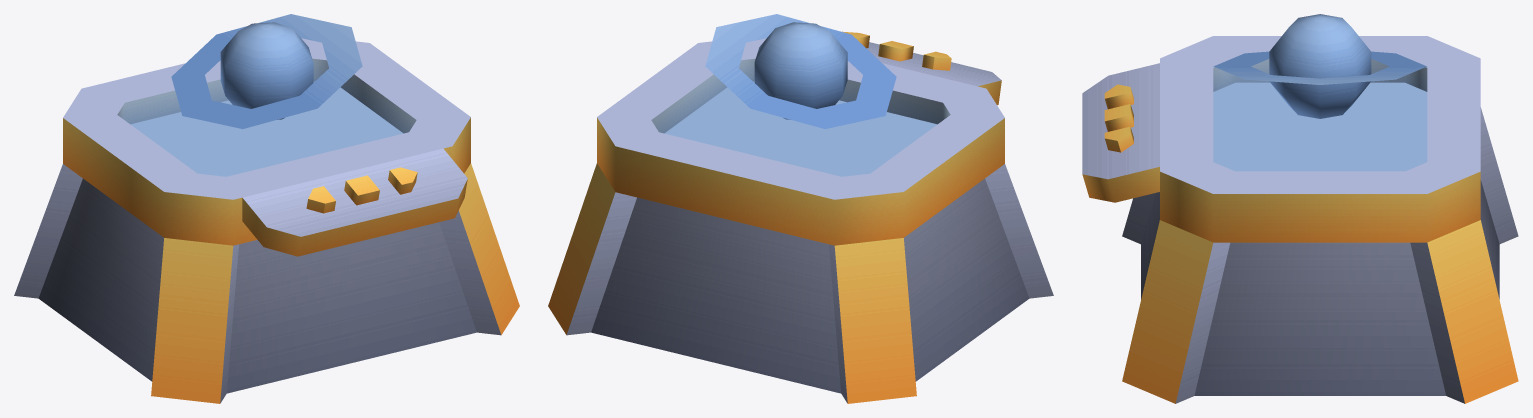
File: table-display-small.glb
The picture shows the model from 3 angles, left to right: view 1: azimuth 30°, elevation 25°; view 2: azimuth 150°, elevation 25°; view 3: azimuth 270°, elevation 25°; orthographic projection. The views are drawn at different scales.
Parts seen in each view (by area): view 1: table-display-small, planet-ring, planet; view 2: table-display-small, planet-ring, planet; view 3: table-display-small, planet, planet-ring.
Boxes of the visible parts, box(x1,y1,x2,y2) form: table-display-small: box(14, 38, 519, 403); planet-ring: box(171, 14, 362, 128); planet: box(220, 22, 313, 119); table-display-small: box(548, 31, 1053, 403); planet-ring: box(705, 14, 896, 128); planet: box(754, 22, 847, 119); table-display-small: box(1082, 36, 1518, 403); planet: box(1269, 14, 1371, 118); planet-ring: box(1213, 51, 1426, 84).
Bounding box in the file's own units: 0.8414 × 0.6 × 0.8156.
Materials: 1 (1 with a texture image).
